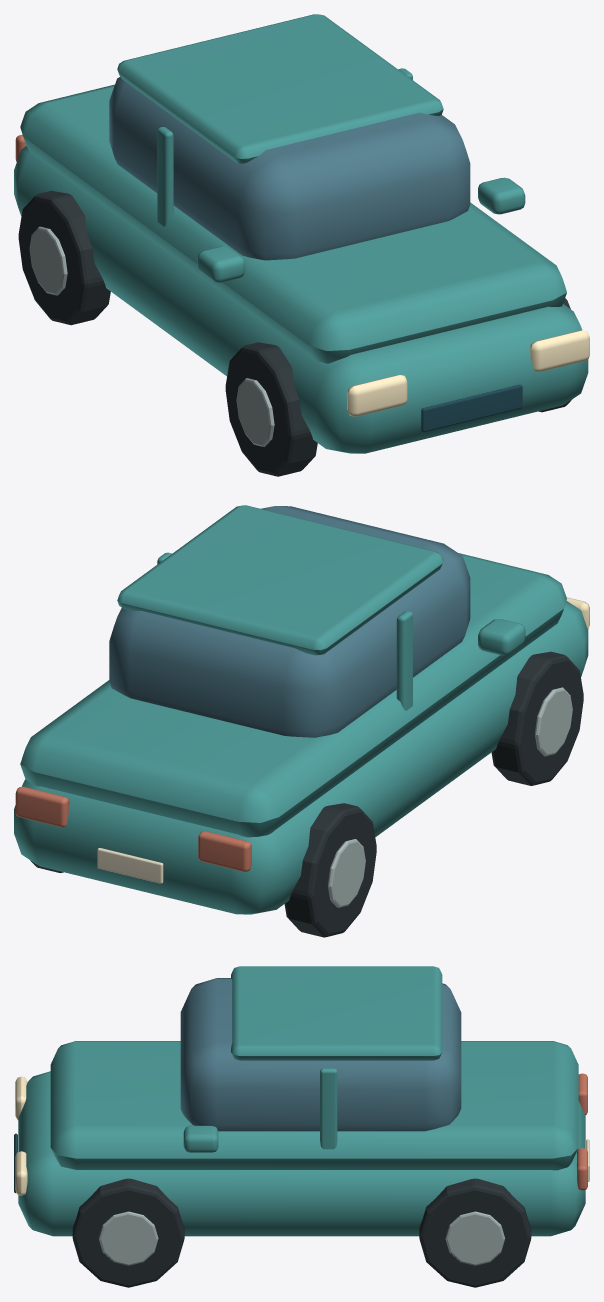
File: car-teal.glb
The picture shows the model from 3 angles, top to bottom: view 1: azimuth 30°, elevation 25°; view 2: azimuth 150°, elevation 25°; view 3: azimuth 270°, elevation 25°; orthographic projection. The views are drawn at different scales.
Parts seen in each view (by area): view 1: Shoulder, Lower body, Cabin glazing, Roof, Tyre.001, Tyre, Front grille, Hub.001, Hub, Headlight, Headlight.001, Door pillar (+2 smaller); view 2: Shoulder, Lower body, Cabin glazing, Roof, Tyre, Tyre.001, Hub, Hub.001, Rear light, Rear light.001, Door pillar, Rear plate (+1 smaller); view 3: Shoulder, Lower body, Cabin glazing, Roof, Tyre.002, Tyre.003, Hub.002, Hub.003, Door pillar.001, Mirror.001, Headlight.001, Rear light.001.
Boxes of the visible parts, x1,y1,x2,y2 form: Shoulder: [20, 84, 566, 363]; Lower body: [14, 146, 588, 453]; Cabin glazing: [109, 77, 470, 260]; Roof: [117, 14, 443, 163]; Tyre.001: [18, 190, 110, 325]; Tyre: [225, 342, 317, 476]; Front grille: [421, 384, 522, 432]; Hub.001: [29, 226, 67, 295]; Hub: [236, 378, 274, 446]; Headlight: [347, 375, 407, 416]; Headlight.001: [530, 330, 589, 372]; Door pillar: [157, 127, 173, 226]; Shoulder: [20, 553, 566, 837]; Lower body: [14, 601, 588, 914]; Cabin glazing: [109, 506, 470, 737]; Roof: [117, 505, 443, 655]; Tyre: [491, 651, 583, 785]; Tyre.001: [284, 803, 376, 937]; Hub: [534, 687, 572, 756]; Hub.001: [327, 839, 365, 907]; Rear light: [198, 831, 251, 871]; Rear light.001: [15, 786, 69, 827]; Door pillar: [396, 611, 412, 710]; Rear plate: [97, 848, 163, 883]; Shoulder: [50, 1041, 578, 1170]; Lower body: [18, 1071, 585, 1236]; Cabin glazing: [180, 978, 461, 1131]; Roof: [231, 966, 442, 1060]; Tyre.002: [72, 1178, 184, 1287]; Tyre.003: [419, 1178, 531, 1287]; Hub.002: [98, 1211, 158, 1265]; Hub.003: [445, 1211, 505, 1265]; Door pillar.001: [320, 1068, 337, 1149]; Mirror.001: [183, 1125, 218, 1152]; Headlight.001: [15, 1151, 27, 1195]; Rear light.001: [577, 1148, 587, 1190].
Bounding box in the file's own units: 1.92 × 1.56 × 3.66.
